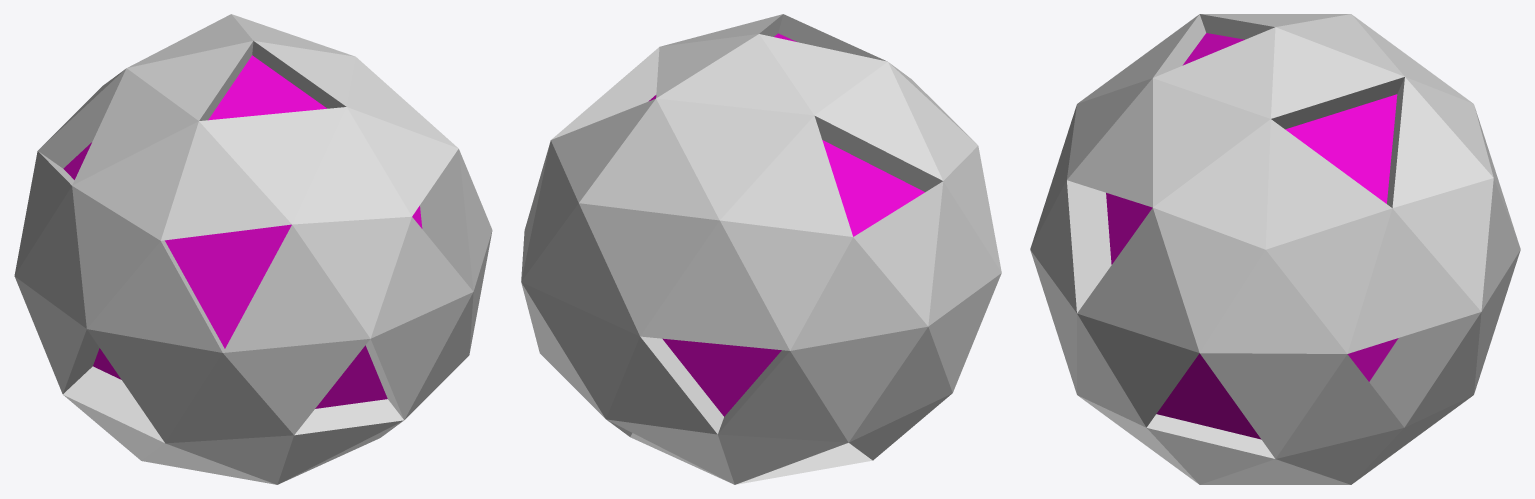
The model's file is asteroide_1_Pi.glb.
3 views of the same model, side by side, from view 1: azimuth 30°, elevation 25°; view 2: azimuth 150°, elevation 25°; view 3: azimuth 270°, elevation 25° (orthographic). The views are drawn at different scales.
Parts seen in each view (by area): view 1: Icosphere; view 2: Icosphere; view 3: Icosphere.
Boxes of the visible parts, <box> form: Icosphere: <box>14,14,492,484</box>; Icosphere: <box>521,14,1001,484</box>; Icosphere: <box>1030,14,1520,484</box>.
Bounding box in the file's own units: 1 × 1 × 1.
